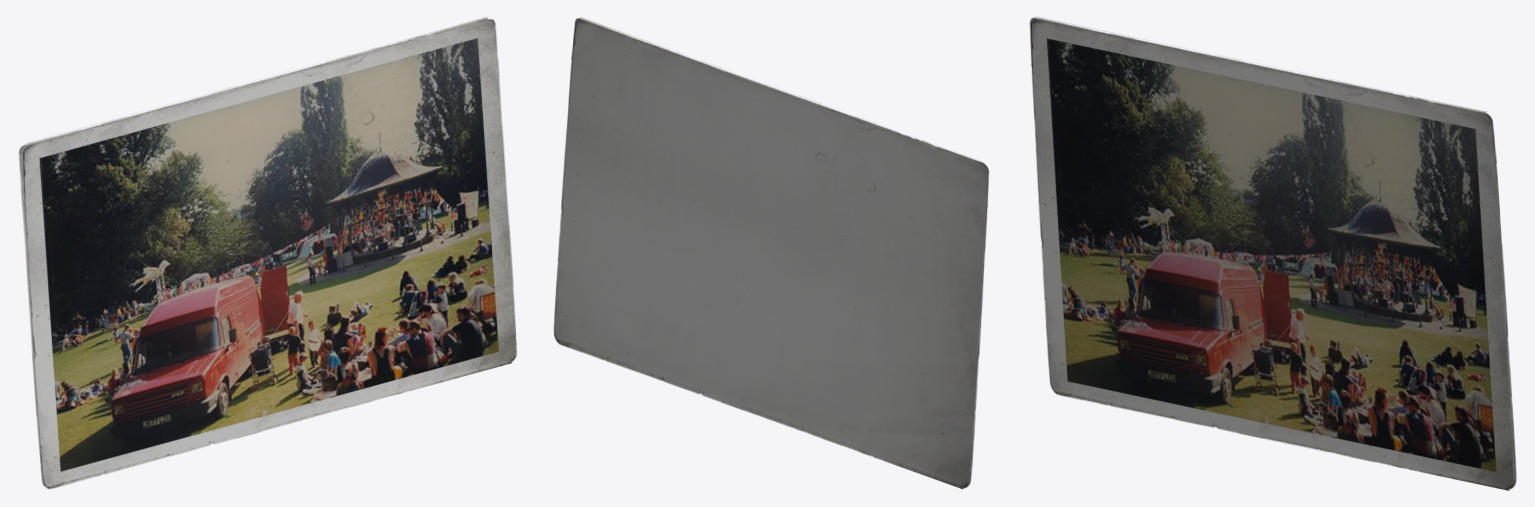
The model's file is photo_2.glb.
3 views of the same model, side by side, from view 1: azimuth 30°, elevation 25°; view 2: azimuth 150°, elevation 25°; view 3: azimuth 330°, elevation 25° (orthographic). The views are drawn at different scales.
Visible parts, largest first — view 1: photo2; view 2: photo2; view 3: photo2.
Part boxes in pixels (box(x1,y1,x2,y2)): photo2: box(18, 17, 516, 489); photo2: box(553, 17, 988, 489); photo2: box(1029, 17, 1516, 490).
Size of the model in its own units: 0.2565 by 0.1929 by 0.0193.
Materials: 2 (2 with a texture image).
